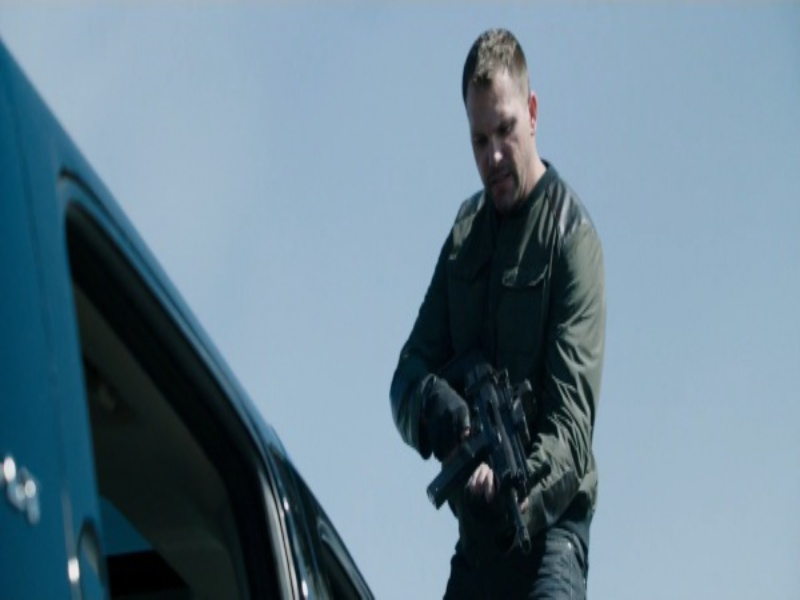person: (389, 24, 591, 599)
weapon: (416, 351, 541, 548)
